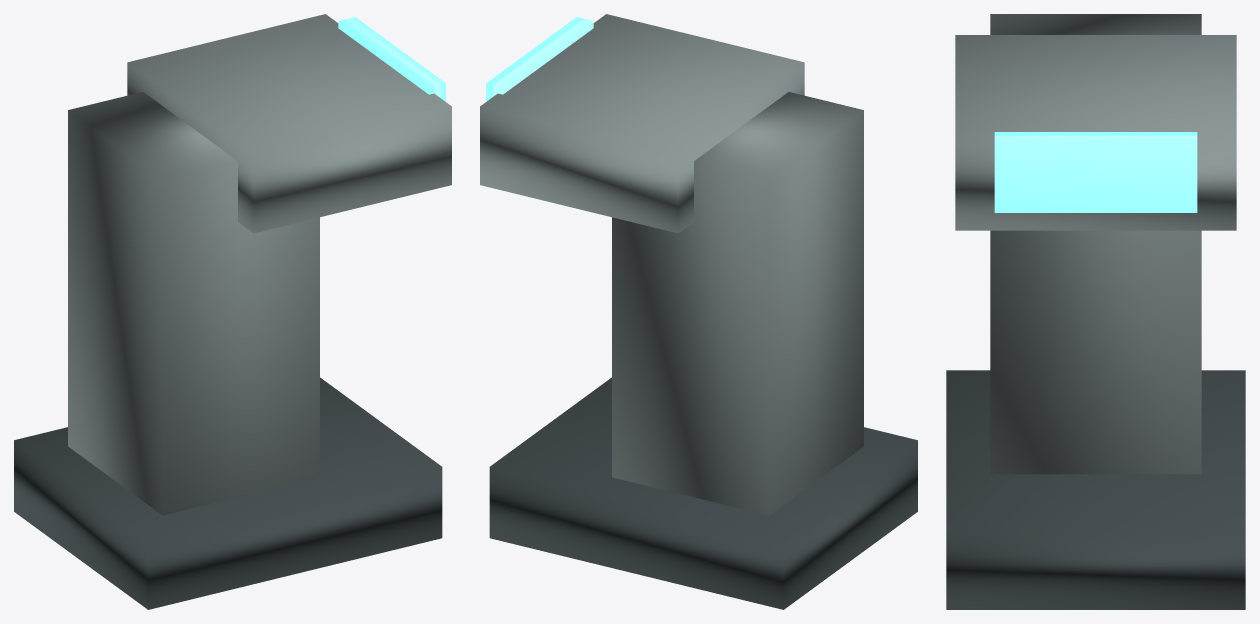
The model's file is spin-habitat-gravity-trim-lod2.glb.
3 views of the same model, side by side, from view 1: azimuth 30°, elevation 25°; view 2: azimuth 150°, elevation 25°; view 3: azimuth 270°, elevation 25° (orthographic). The views are drawn at different scales.
Parts seen in each view (by area): view 1: spin-habitat-gravity-trim-column, spin-habitat-gravity-trim-base, spin-habitat-gravity-trim-yoke, spin-habitat-interactable-status; view 2: spin-habitat-gravity-trim-column, spin-habitat-gravity-trim-base, spin-habitat-gravity-trim-yoke, spin-habitat-interactable-status; view 3: spin-habitat-gravity-trim-column, spin-habitat-gravity-trim-base, spin-habitat-gravity-trim-yoke, spin-habitat-interactable-status.
Part boxes in pixels (x1,y1,x2,y2): spin-habitat-gravity-trim-column: (68, 92, 319, 515); spin-habitat-gravity-trim-base: (14, 377, 442, 609); spin-habitat-gravity-trim-yoke: (127, 14, 451, 233); spin-habitat-interactable-status: (338, 17, 445, 101); spin-habitat-gravity-trim-column: (612, 92, 863, 515); spin-habitat-gravity-trim-base: (489, 377, 917, 609); spin-habitat-gravity-trim-yoke: (480, 14, 804, 233); spin-habitat-interactable-status: (486, 17, 593, 101); spin-habitat-gravity-trim-column: (990, 14, 1201, 474); spin-habitat-gravity-trim-base: (946, 370, 1245, 609); spin-habitat-gravity-trim-yoke: (955, 35, 1236, 230); spin-habitat-interactable-status: (994, 132, 1197, 212).
Bounding box in the file's own units: 0.935 × 1.21 × 0.68.
